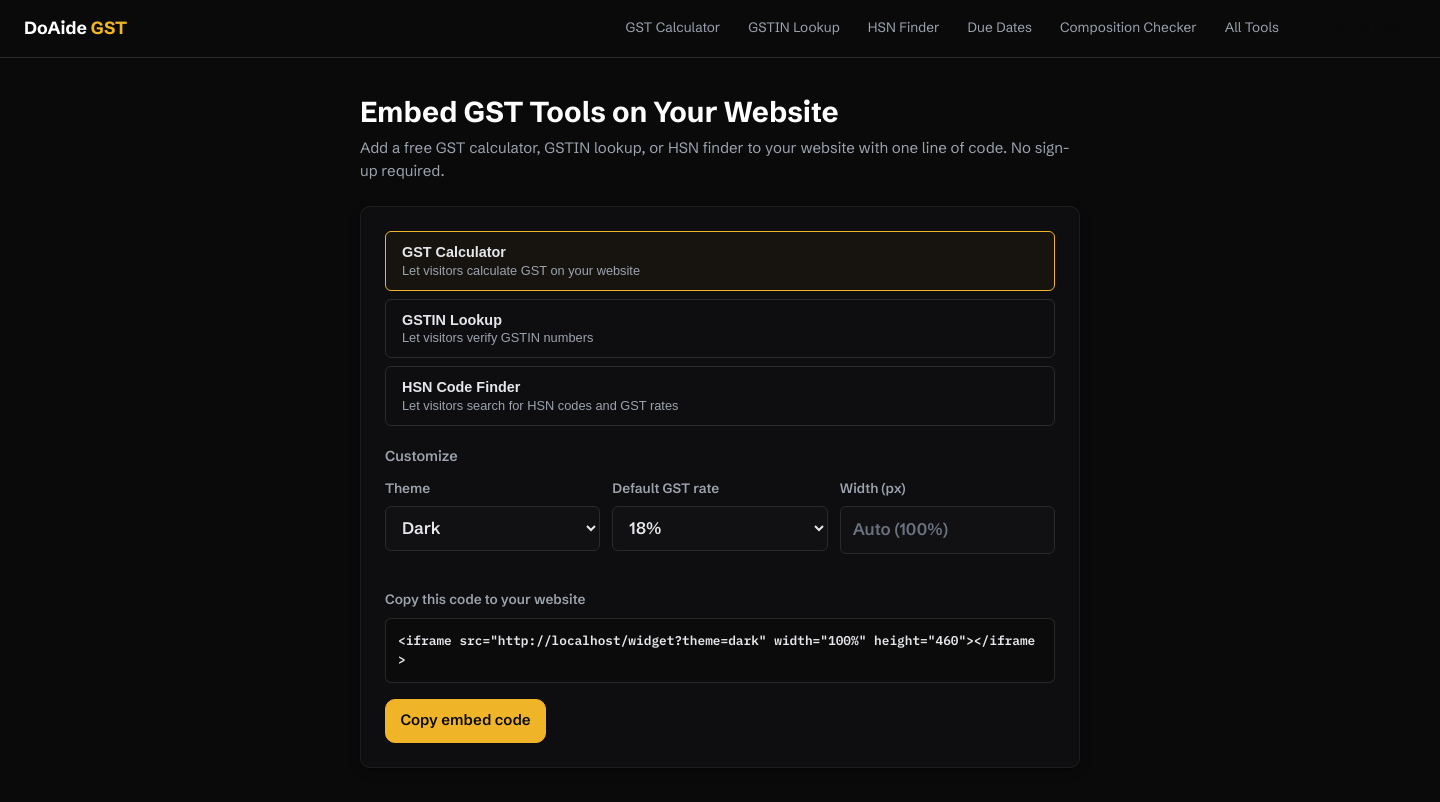
it: EmbedPage › hides customization and preview when a non-calculator tool is selected
Click the button "GSTIN Lookup Let visitors verify GSTIN numbers": (452, 320) [385, 299, 1055, 358]
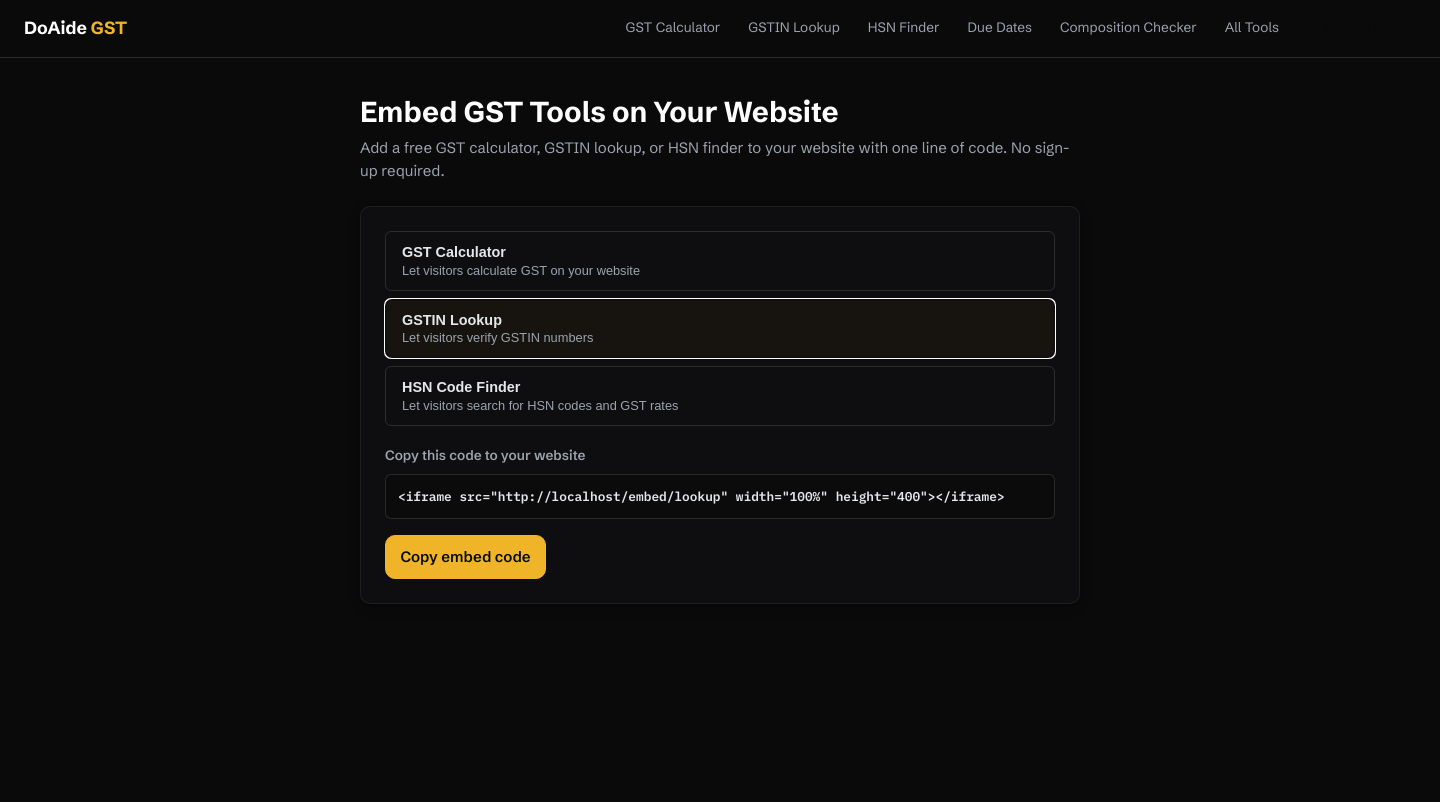
Now the heading "Customize" is gone
